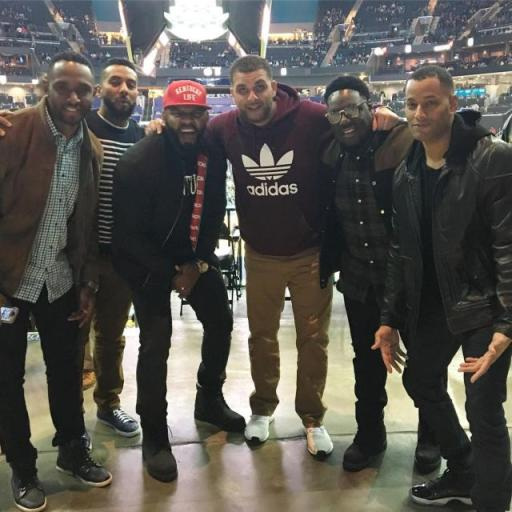Adidas: (238, 142, 301, 198)
